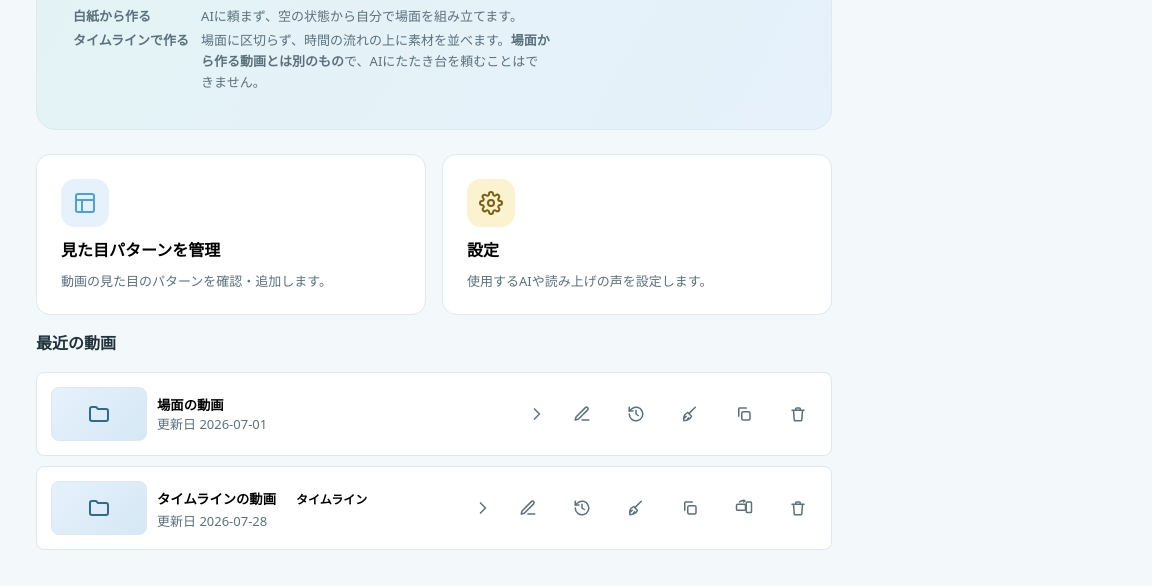
Scenario: 削除の確認が、その形式の言葉で言う（#991） › タイムライン形式では「場面」と言わない
The width and height of the screenshot is (1152, 586).
(page scrolled)
Click the button named "「タイムラインの動画」を削除" at (798, 508), box [779,489,817,527]
(page scrolled)
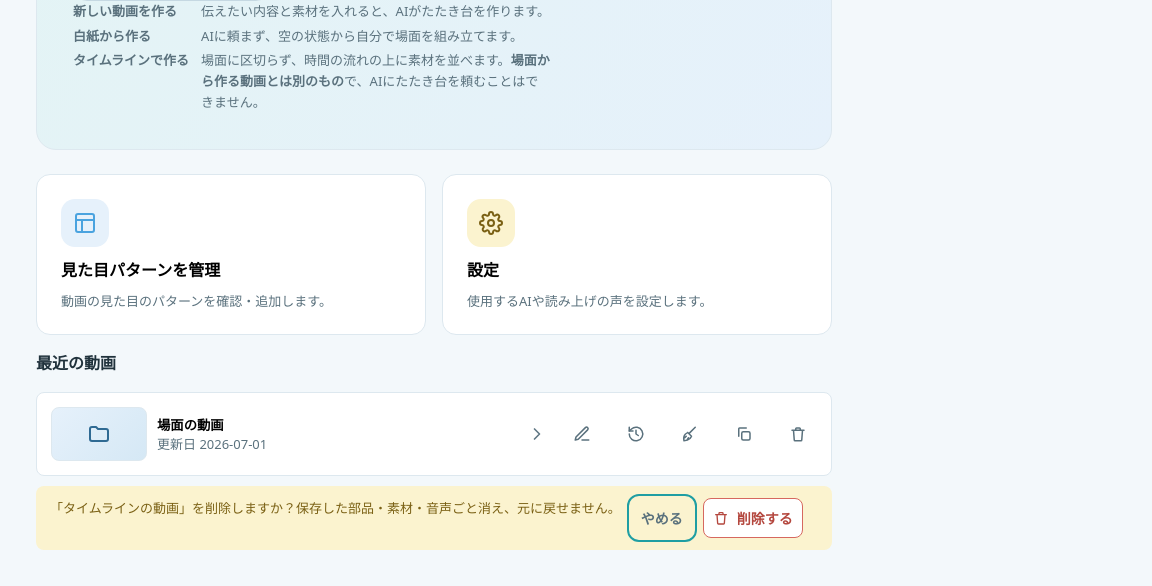
Expected: the text "を削除しますか" does not show "場面"
Now the text "「タイムラインの動画」を削除しますか？保存した部品・素材・音声ごと消え、元に戻せません。" is shown, box [50,498,621,519]
